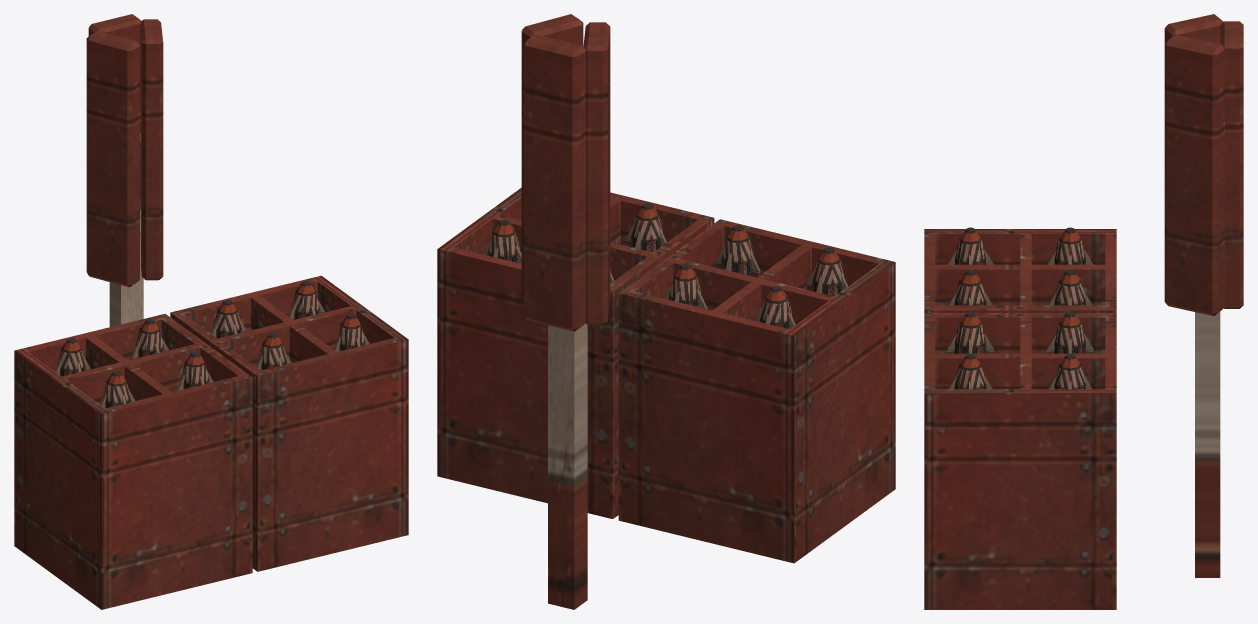
Rendered from aa_launcher.dae.
3 renders of one model, left to right at view 1: azimuth 30°, elevation 25°; view 2: azimuth 150°, elevation 25°; view 3: azimuth 270°, elevation 25°, orthographic. The views are drawn at different scales.
Visible parts, largest first — view 1: aa.004; view 2: aa.004; view 3: aa.004.
Part boxes in pixels (x1,y1,x2,y2): aa.004: (14, 14, 408, 609); aa.004: (437, 14, 895, 609); aa.004: (924, 14, 1243, 609).
Bounding box in the file's own units: 5.95 × 4.86 × 9.06.
